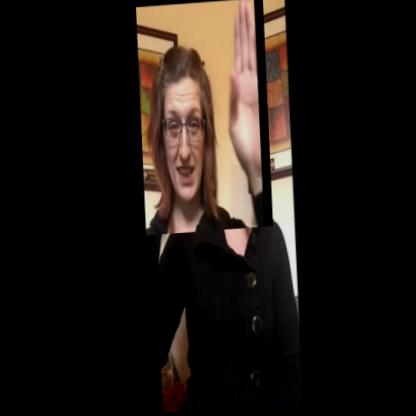Hello: (134, 0, 274, 236)
